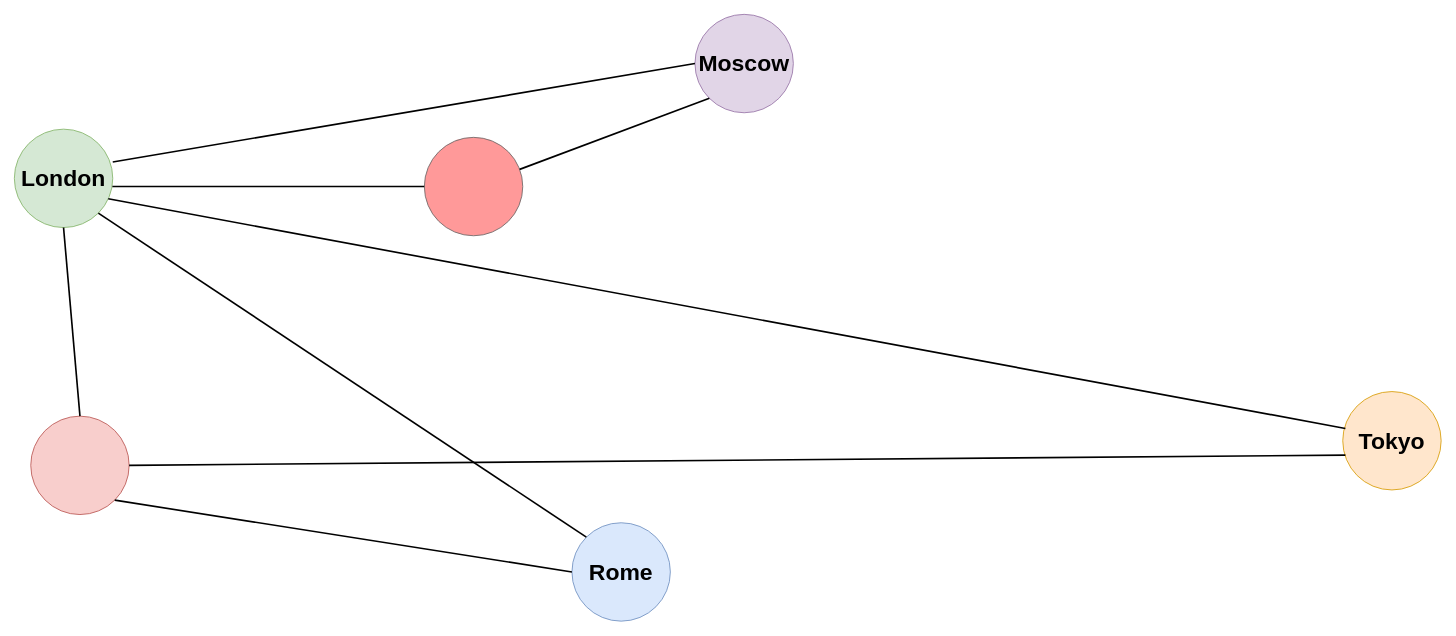
Some shapes in this 1456 by 636 pixel diagram are drawn without their labels. The centre of each missing label's shape, as x and y in pixels:
"Berlin" goes at (473,186).
"Paris" goes at (79,465).
